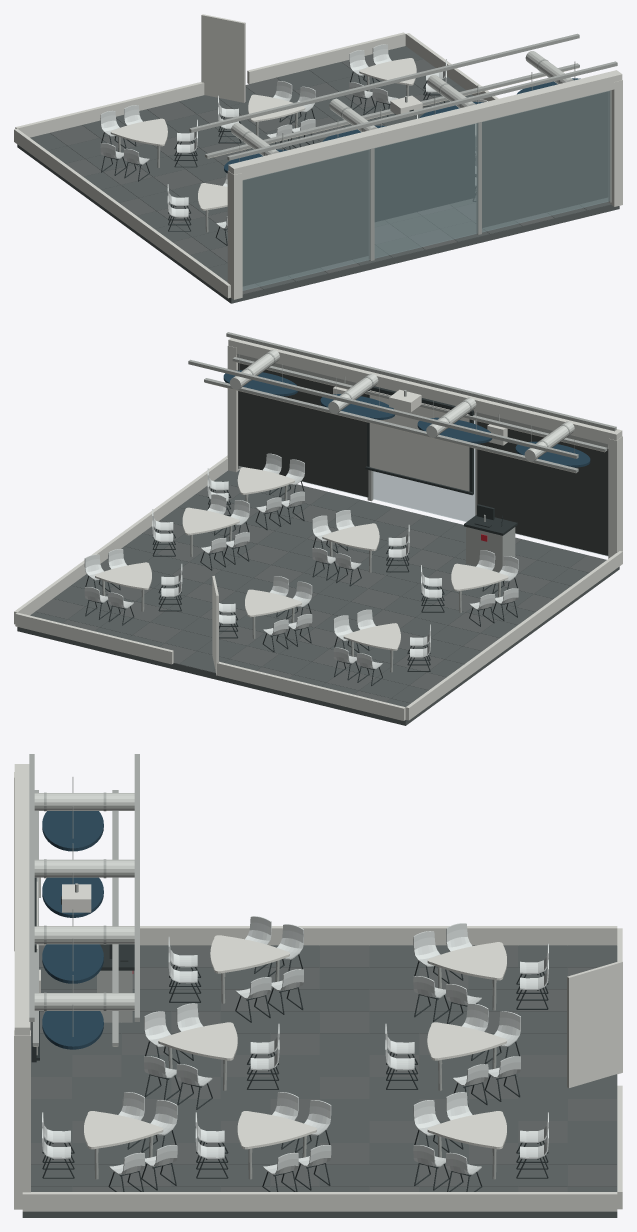
File: cbg-103-interior-7c43caf689a7.glb
The picture shows the model from 3 angles, top to bottom: view 1: azimuth 30°, elevation 25°; view 2: azimuth 150°, elevation 25°; view 3: azimuth 270°, elevation 25°; orthographic projection. The views are drawn at different scales.
Parts seen in each view (by area): view 1: cbg-103; view 2: cbg-103; view 3: cbg-103.
Boxes of the visible parts, x1,y1,x2,y2 form: cbg-103: (14,14,622,303); cbg-103: (14,332,622,725); cbg-103: (14,754,622,1217).
Size of the model in its own units: 11.93 by 4.2 by 11.45.
